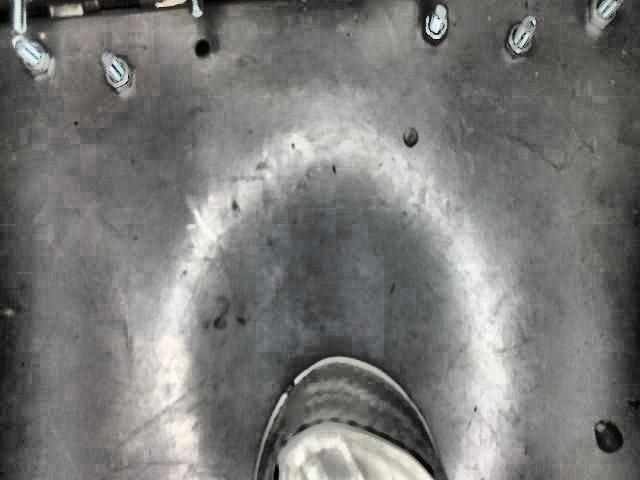Paper: (234, 345, 469, 480)
